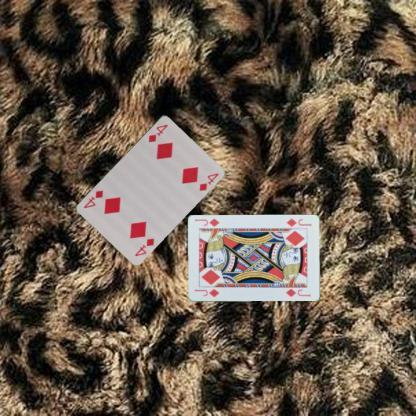4d: (132, 235, 156, 257), (146, 121, 168, 144)
Jd: (192, 286, 221, 298), (284, 216, 312, 228)
